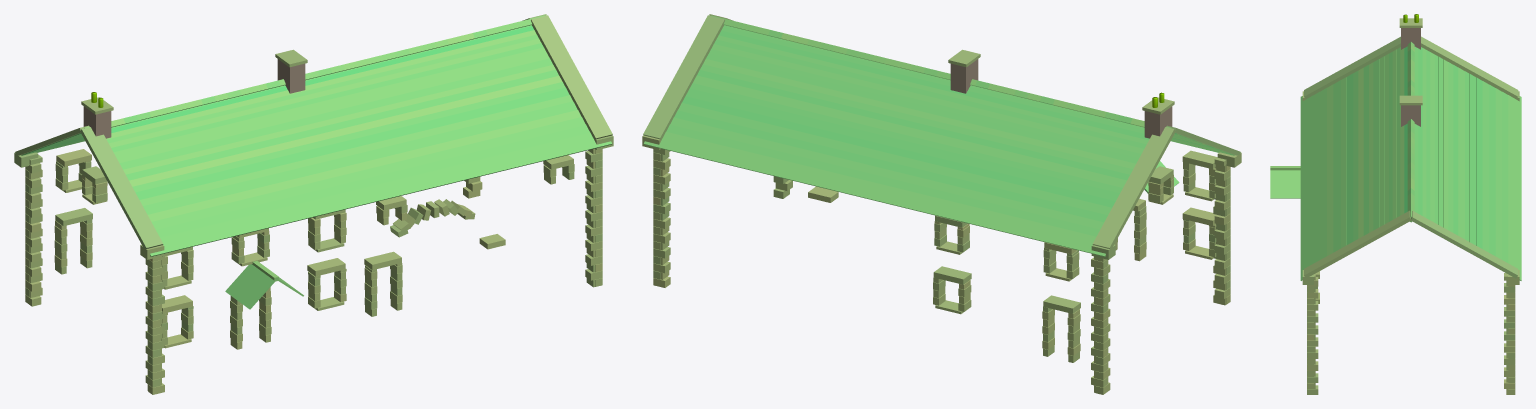
File: SM_Bld_114_Stone.glb
The picture shows the model from 3 angles, left to right: view 1: azimuth 30°, elevation 25°; view 2: azimuth 150°, elevation 25°; view 3: azimuth 270°, elevation 25°; orthographic projection. The views are drawn at different scales.
Parts seen in each view (by area): view 1: SM_Bld_114_Stone; view 2: SM_Bld_114_Stone; view 3: SM_Bld_114_Stone.
Part boxes in pixels (<box>): SM_Bld_114_Stone: <box>14,14,613,394</box>; SM_Bld_114_Stone: <box>642,14,1241,394</box>; SM_Bld_114_Stone: <box>1270,14,1521,394</box>.
Bounding box in the file's own units: 19.82 × 10.17 × 11.35.
